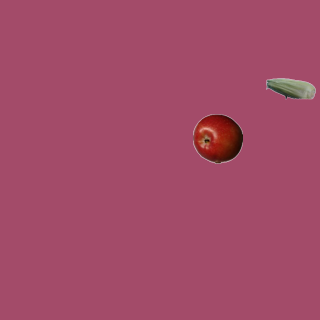Apple Braeburn: (192, 113, 242, 163)
Corn Husk: (265, 63, 315, 113)
